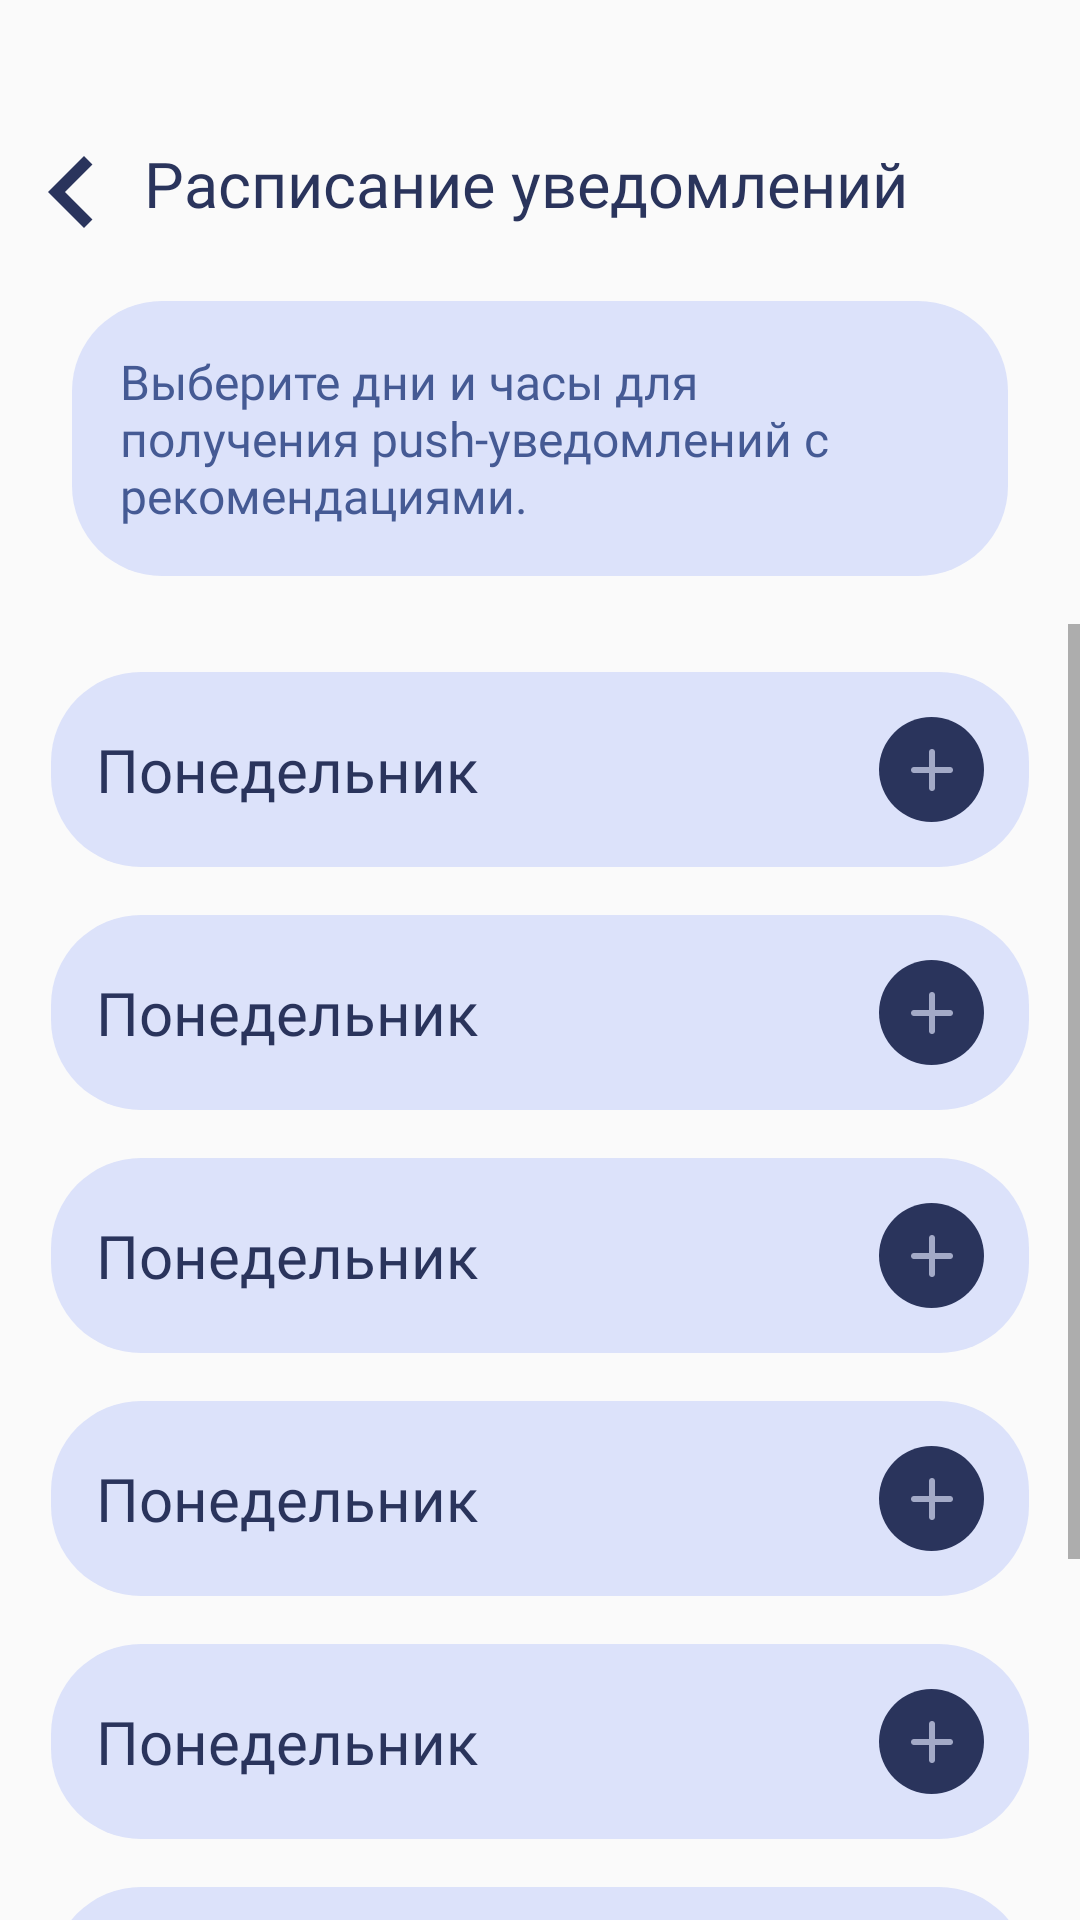

Point at icon controls on the screen. Image size 1080×1920, points as point (x, y).
add: point (931, 769), point (931, 1012), point (931, 1255), point (931, 1498), point (931, 1741)
chevron left: point (70, 192)
